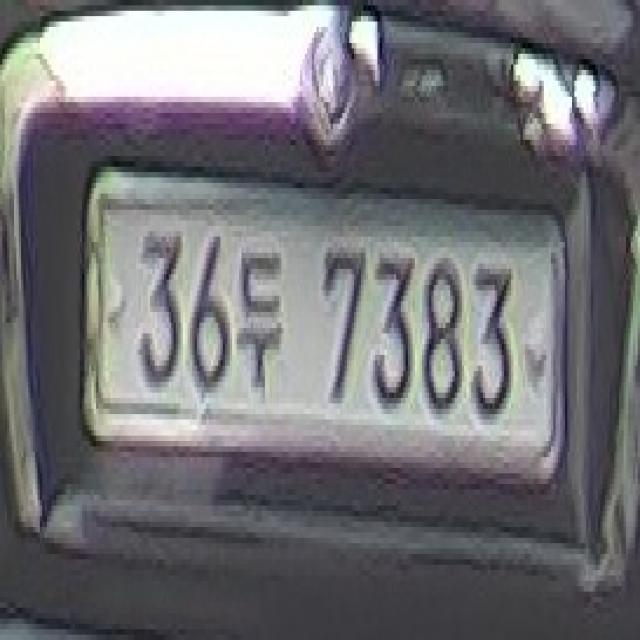3: (469, 264, 516, 430), (375, 242, 417, 420), (141, 215, 183, 382)
6: (188, 226, 232, 392)
7: (319, 237, 366, 398)
8: (422, 253, 462, 419)
du: (234, 242, 284, 393)
license_plate: (87, 177, 565, 473)
